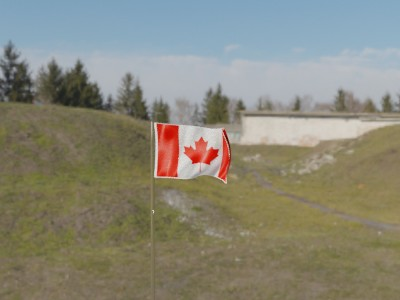Canada flag: (154, 123, 232, 183)
